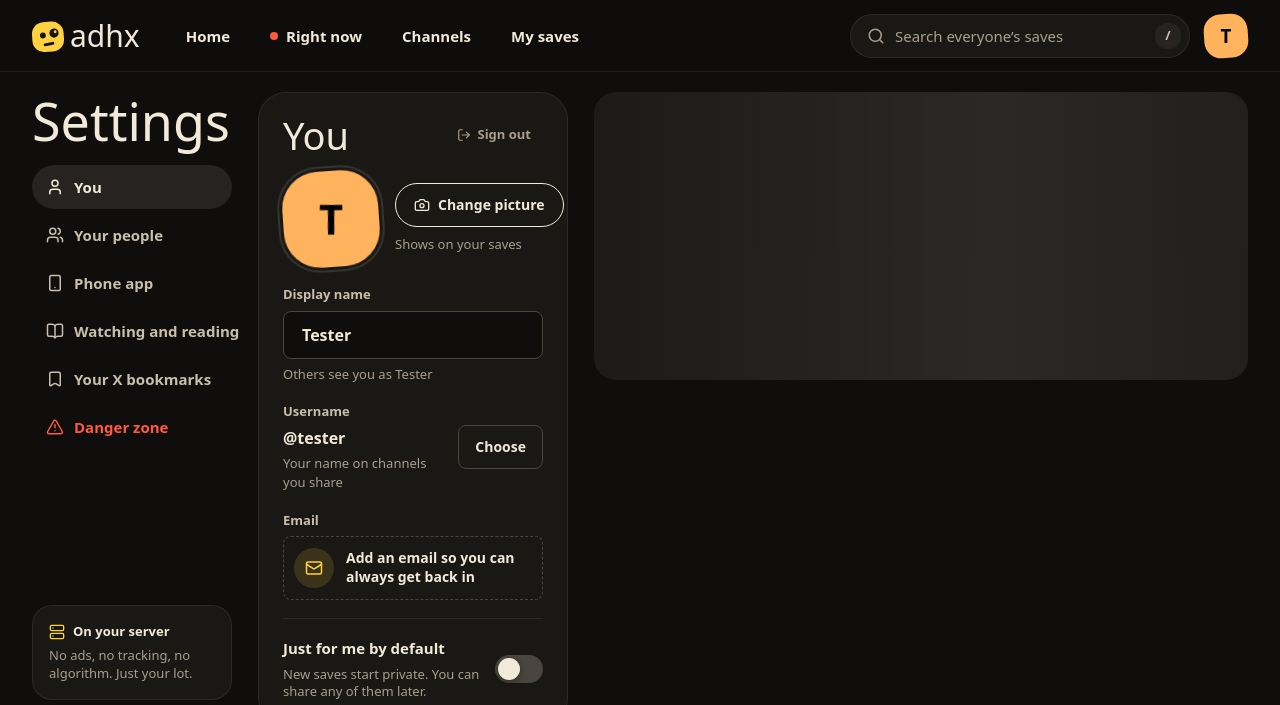
SettingsClient — account › adds email via the change endpoint so it stays on this account
Click the button "Add an email so you can always get back in": {"x": 413, "y": 568} top-left (283, 536), bottom-right (543, 600)
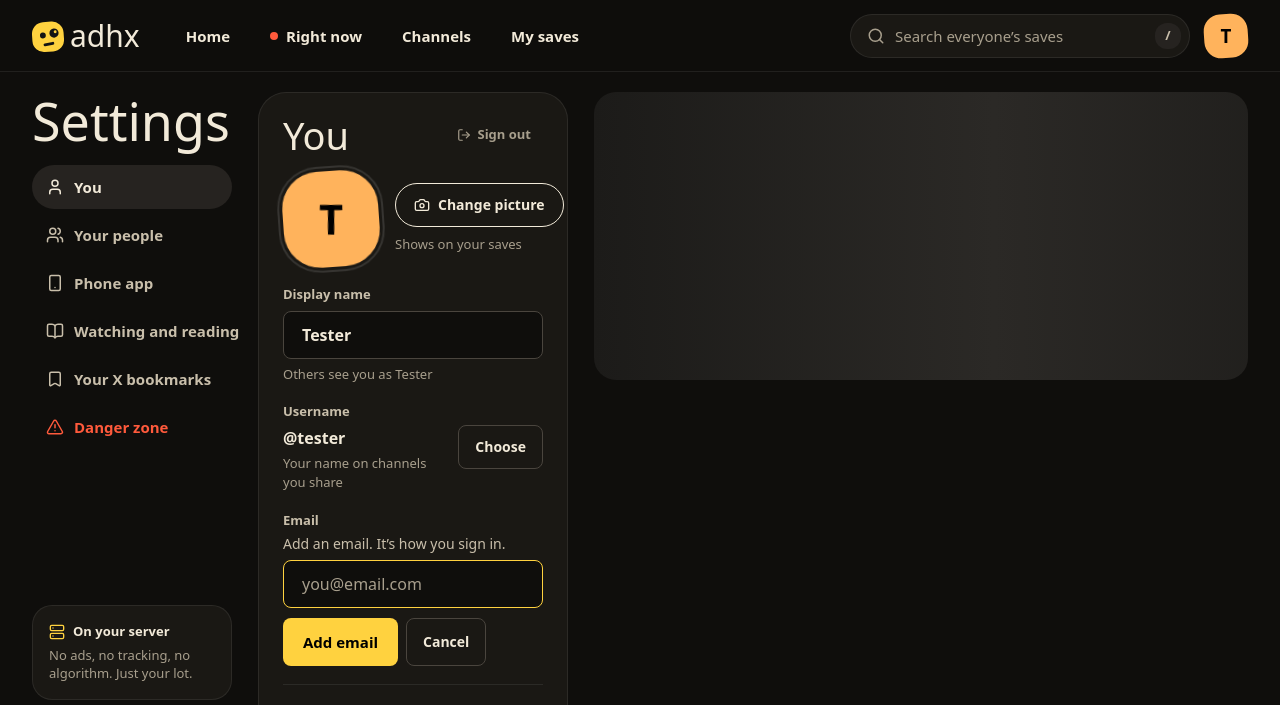
expect the field with placeholder "you@email.com" is shown: met
In the field with placeholder "you@email.com": {"x": 413, "y": 584} top-left (283, 560), bottom-right (543, 608), type "me@example.com"
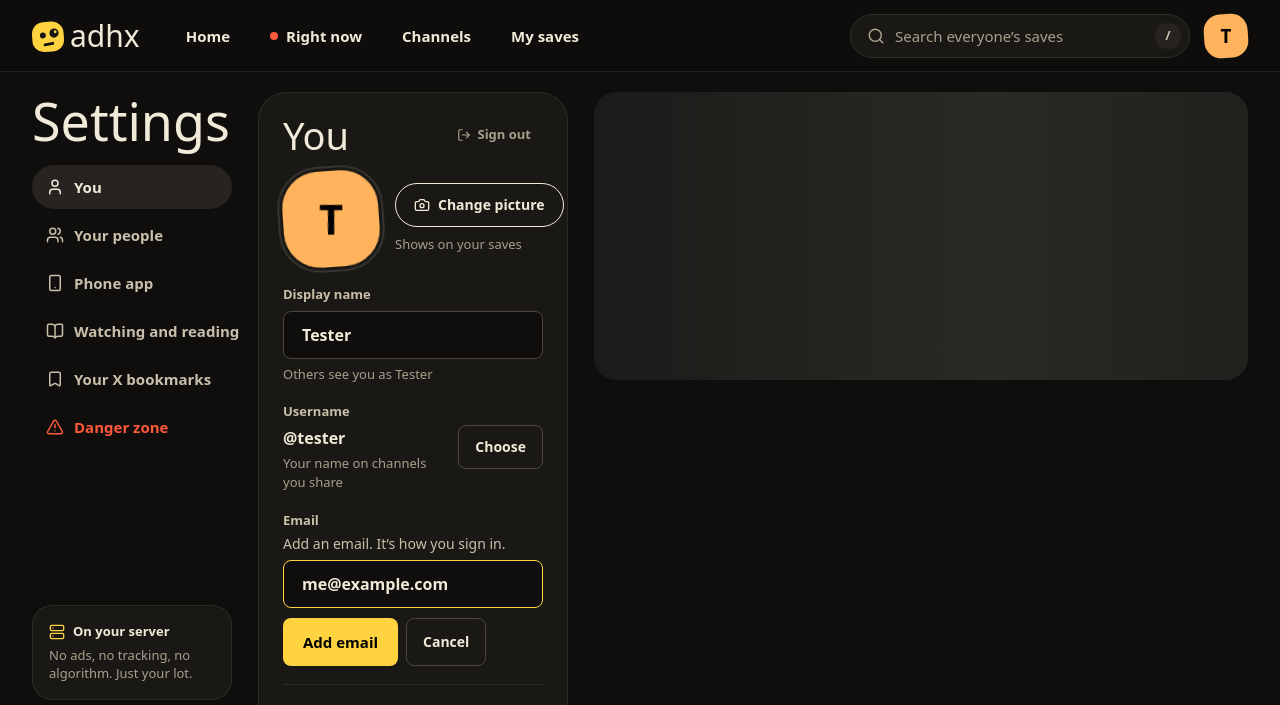
Click the button "Add email": {"x": 340, "y": 642} top-left (283, 618), bottom-right (398, 666)
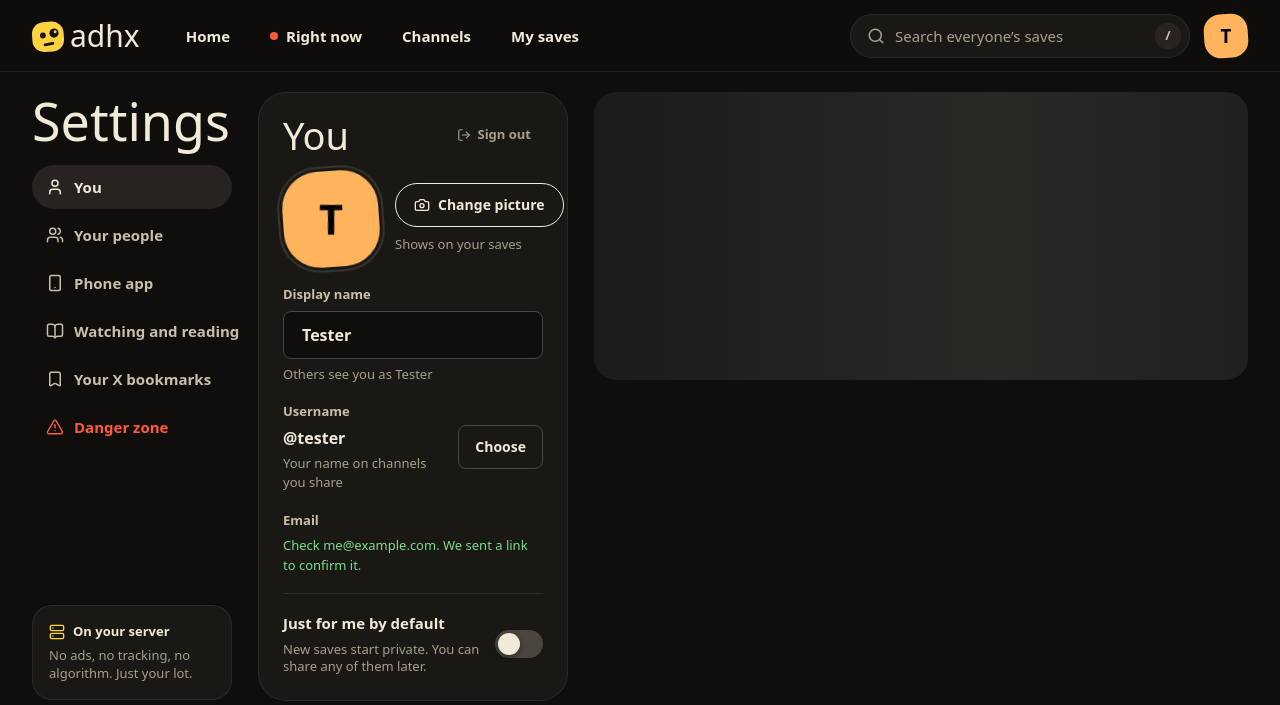
expect the text "Check me@example.com. We sent a link to confirm it." is shown: met, box top-left (283, 536), bottom-right (543, 575)
